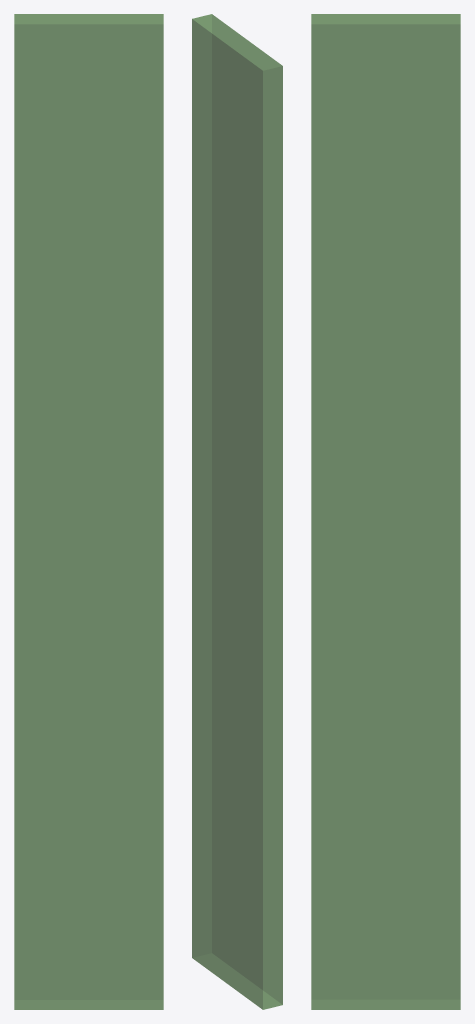
File: Panel_100.obj
3 renders of one model, left to right at view 1: azimuth 90°, elevation 25°; view 2: azimuth 210°, elevation 25°; view 3: azimuth 270°, elevation 25°, orthographic. The views are drawn at different scales.
Parts seen in each view (by area): view 1: Shape_IndexedFaceSet_Shape_IndexedFaceSet.122; view 2: Shape_IndexedFaceSet_Shape_IndexedFaceSet.122; view 3: Shape_IndexedFaceSet_Shape_IndexedFaceSet.122.
Boxes of the visible parts, x1,y1,x2,y2 form: Shape_IndexedFaceSet_Shape_IndexedFaceSet.122: (14, 14, 163, 1009); Shape_IndexedFaceSet_Shape_IndexedFaceSet.122: (192, 14, 282, 1009); Shape_IndexedFaceSet_Shape_IndexedFaceSet.122: (311, 14, 460, 1009).
Size of the model in its own units: 0.0222 by 0.9987 by 0.1369.
